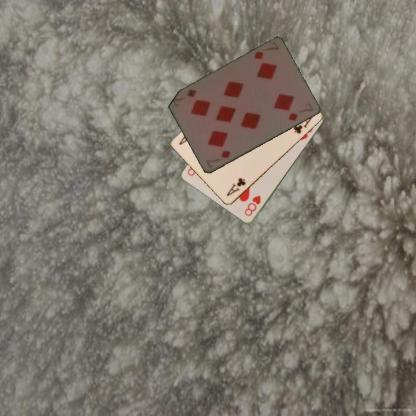7d: (203, 148, 232, 170), (251, 39, 280, 61)
8h: (242, 192, 262, 218)
Ac: (224, 175, 247, 198)
